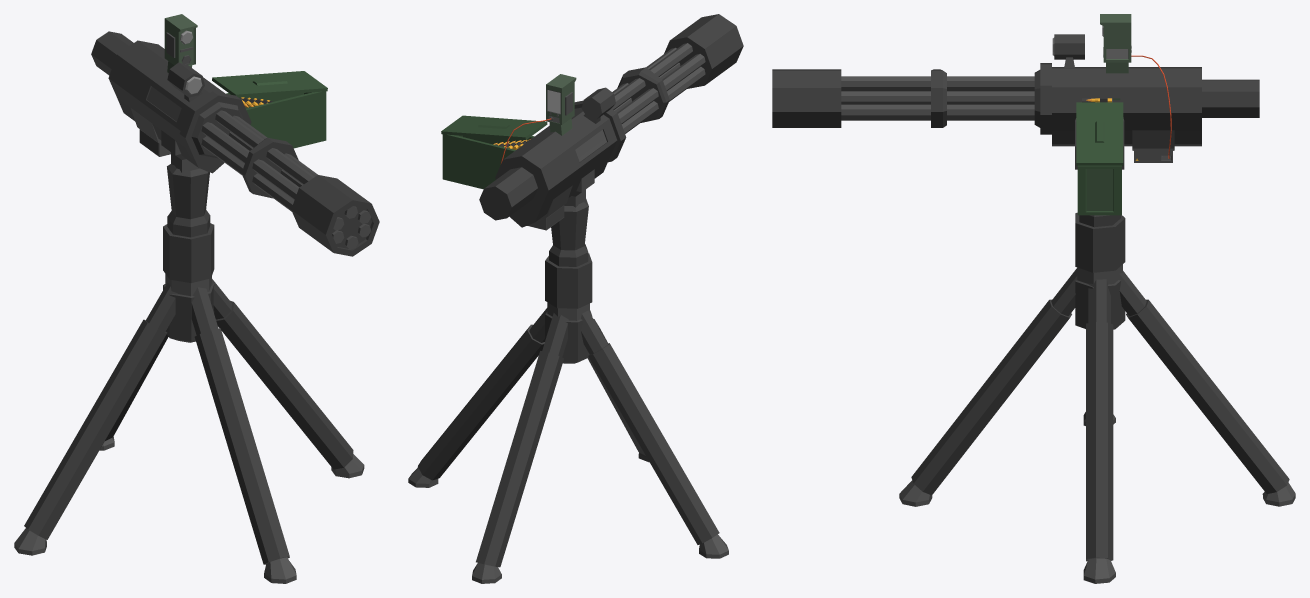
The model's file is Automatic Turret.fbx.
The picture shows the model from 3 angles, left to right: view 1: azimuth 30°, elevation 25°; view 2: azimuth 150°, elevation 25°; view 3: azimuth 270°, elevation 25°; orthographic projection. The views are drawn at different scales.
Parts seen in each view (by area): view 1: Auto Turret; view 2: Auto Turret; view 3: Auto Turret.
Part boxes in pixels (x1=…): Auto Turret: x1=14, y1=14, x2=379, y2=583; Auto Turret: x1=408, y1=14, x2=743, y2=583; Auto Turret: x1=772, y1=14, x2=1295, y2=583.
Size of the model in its own units: 668 by 890 by 877.
2 materials, 1 textured.
